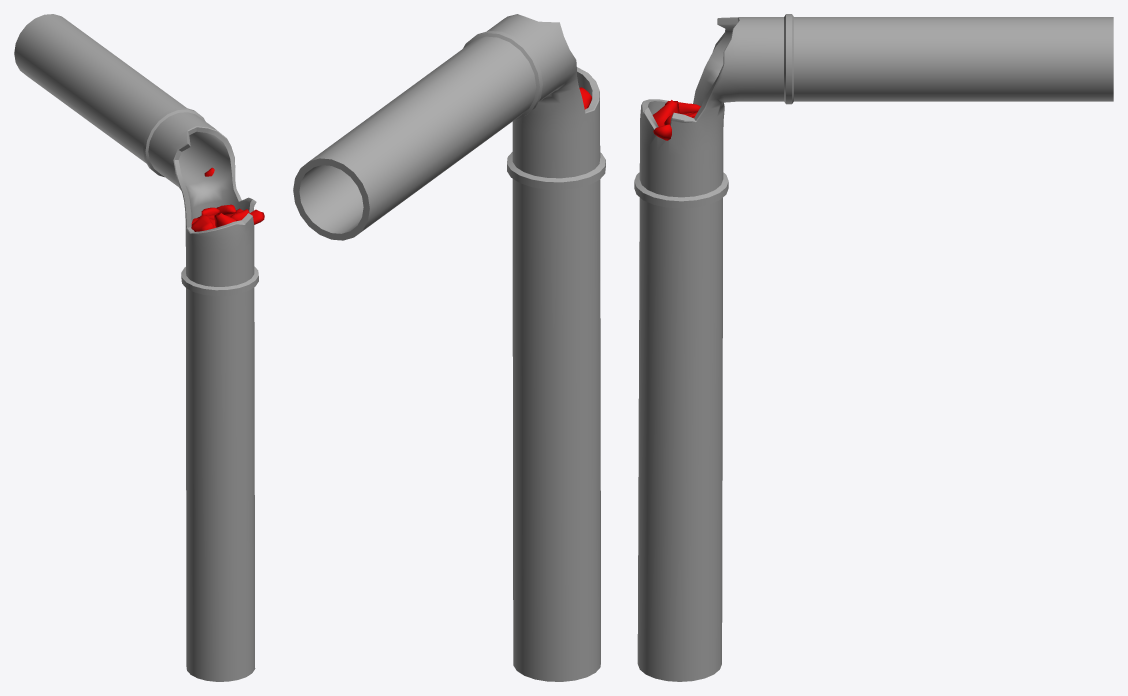
Rendered from tube_enterance.fbx.
3 views of the same model, side by side, from view 1: azimuth 30°, elevation 25°; view 2: azimuth 150°, elevation 25°; view 3: azimuth 270°, elevation 25° (orthographic). The views are drawn at different scales.
Visible parts, largest first — view 1: polySurface2; view 2: polySurface2; view 3: polySurface2.
Boxes of the visible parts, box(x1,y1,x2,y2) form: polySurface2: box(14, 14, 264, 681); polySurface2: box(293, 14, 605, 681); polySurface2: box(634, 14, 1113, 681).
Size of the model in its own units: 4.65 by 33.12 by 22.28.
